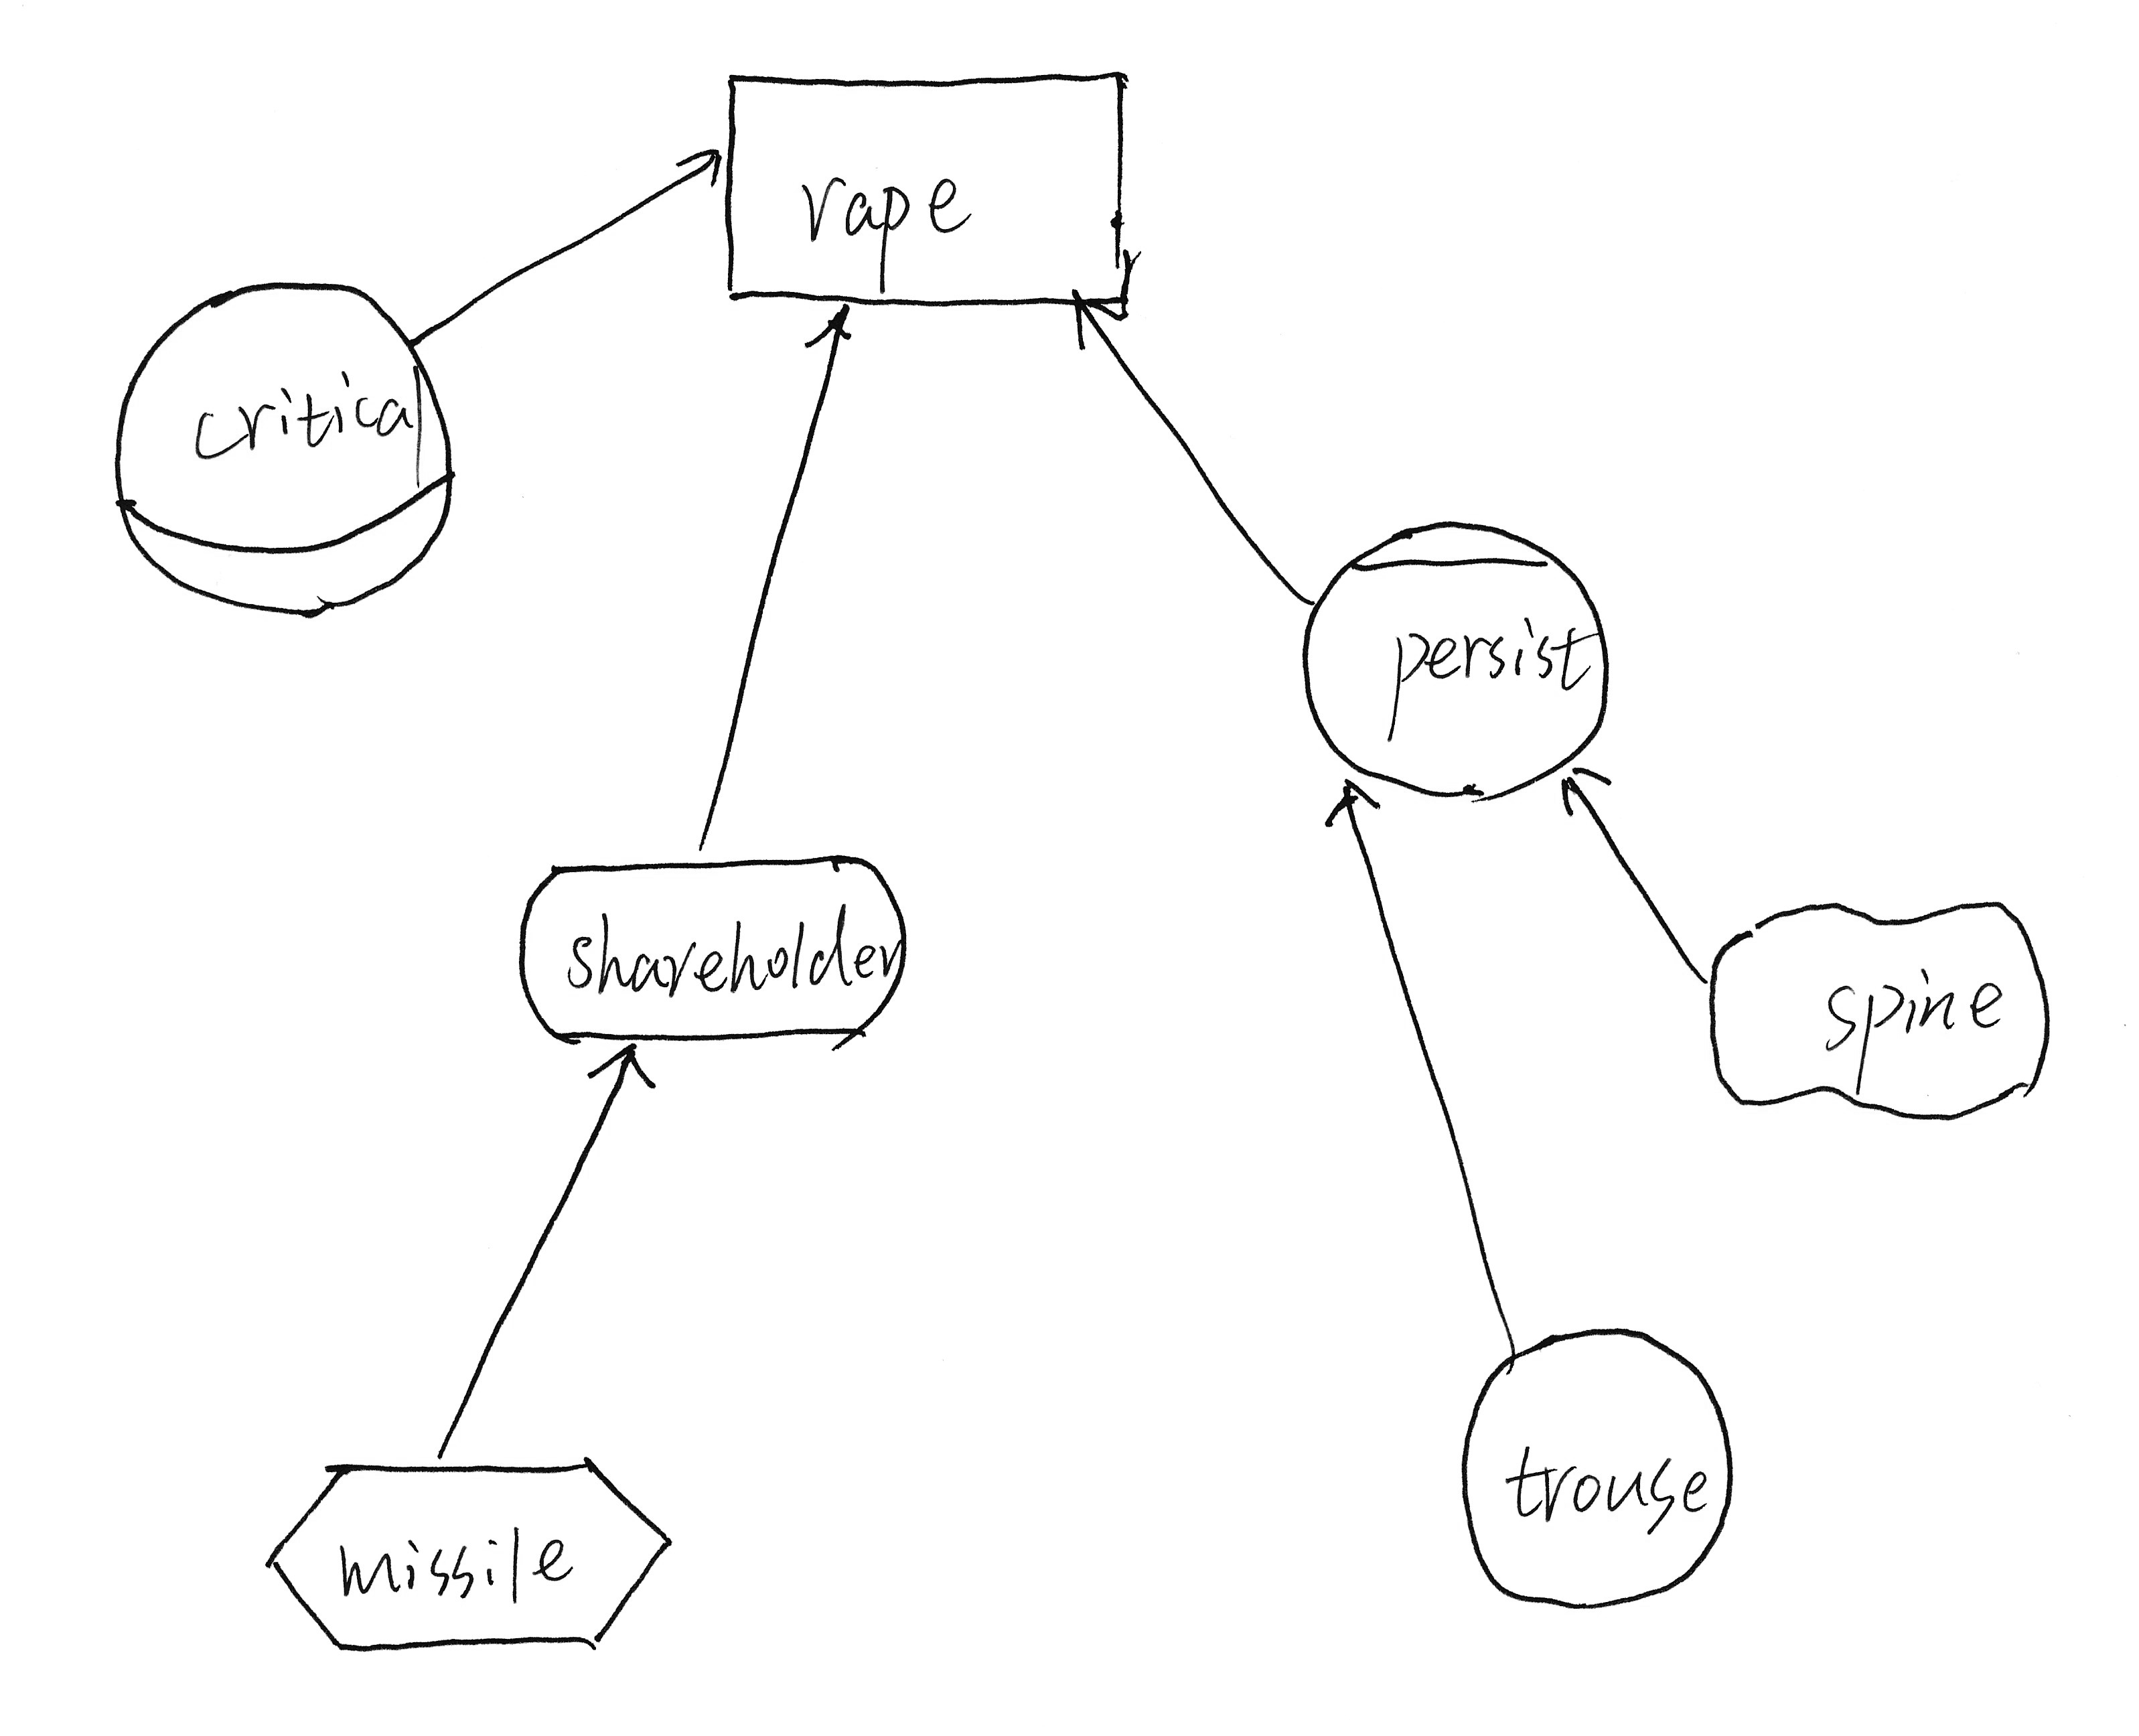actor: (1284, 498, 1627, 818), (1445, 1313, 1746, 1626)
arrow: (1054, 273, 1139, 356), (1303, 769, 1395, 845), (570, 1036, 673, 1104), (793, 296, 876, 365), (1546, 755, 1620, 829), (671, 131, 731, 209)
goal: (490, 843, 921, 1070)
quality: (1693, 884, 2065, 1143)
task: (87, 259, 483, 629), (708, 44, 1149, 326), (251, 1444, 701, 1667)
